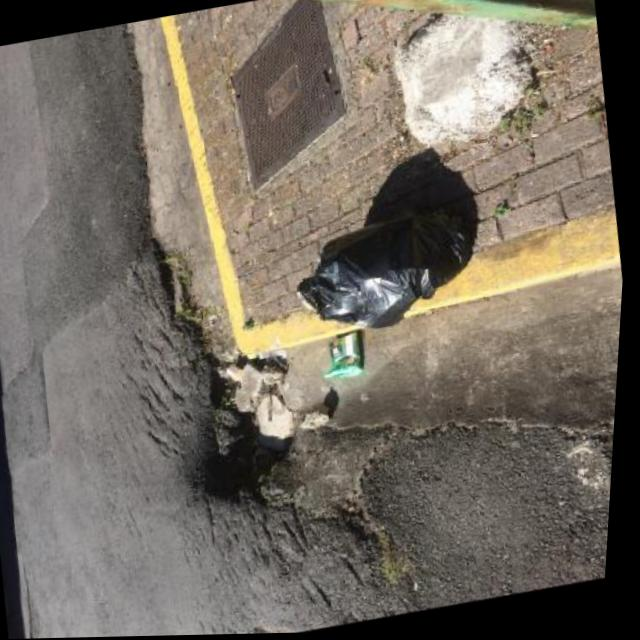plastic: (284, 207, 485, 346), (318, 331, 367, 382)
